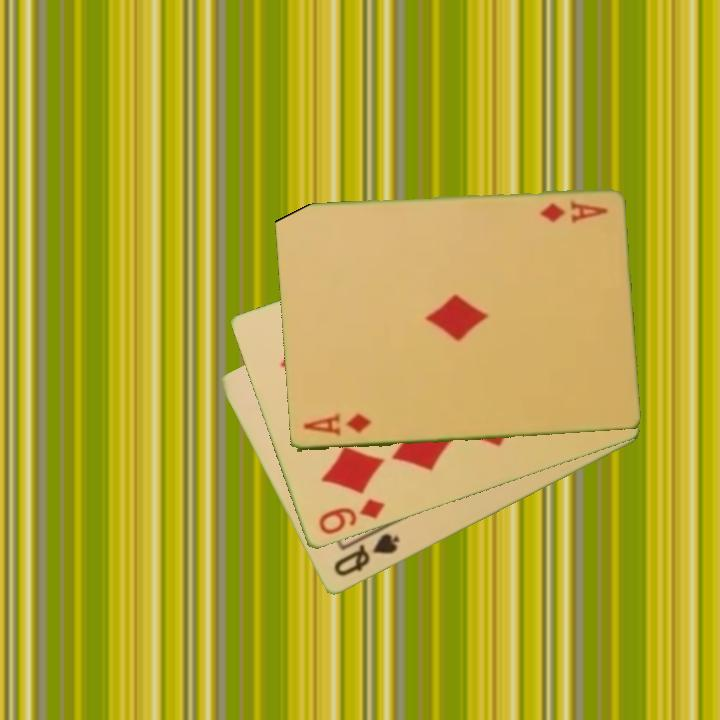9d: (314, 495, 388, 538)
Ad: (299, 410, 374, 440), (536, 197, 610, 225)
Qs: (330, 530, 403, 580)
